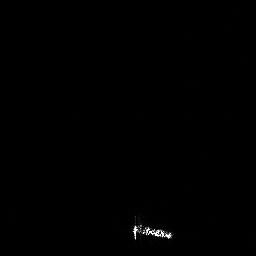ship: (131, 215, 175, 244)
